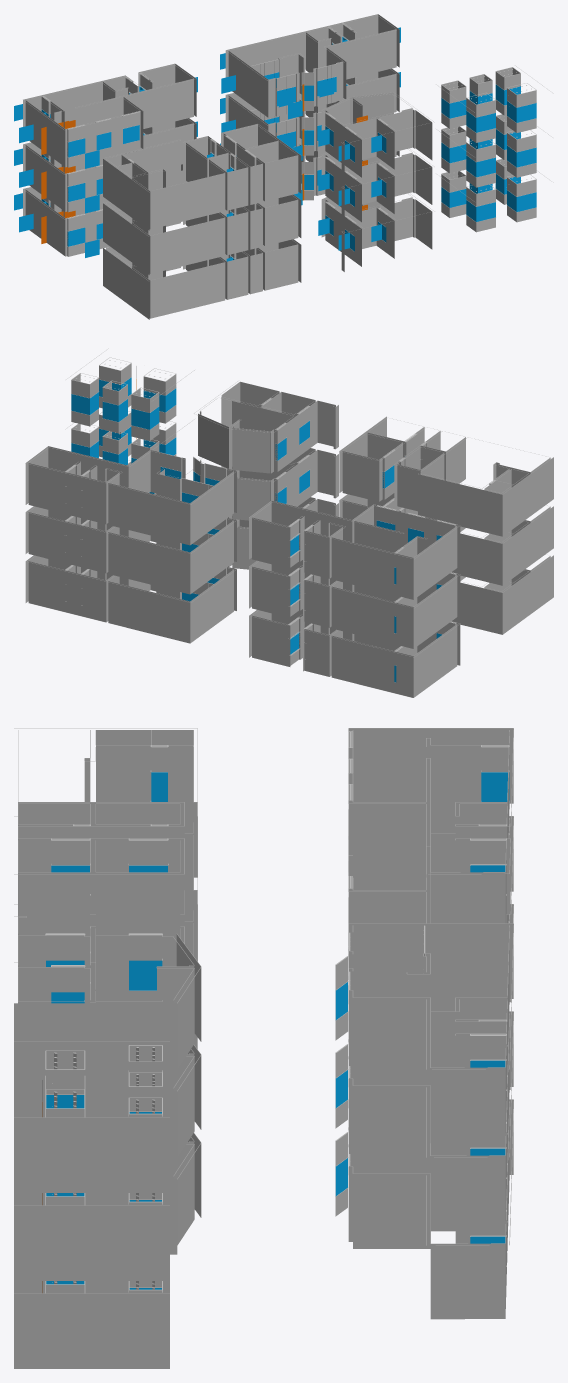
File: b464e34d-e29f-4849-8ddd-17a3c8b25314.glb
The picture shows the model from 3 angles, top to bottom: view 1: azimuth 30°, elevation 25°; view 2: azimuth 150°, elevation 25°; view 3: azimuth 270°, elevation 25°; orthographic projection. The views are drawn at different scales.
Parts seen in each view (by area): view 1: world; view 2: world; view 3: world.
Part boxes in pixels (<box>): world: <box>14,14,553,319</box>; world: <box>25,348,553,697</box>; world: <box>14,728,513,1368</box>.
Bounding box in the file's own units: 34.75 × 10 × 19.46.
Materials: 1 (1 with a texture image).
